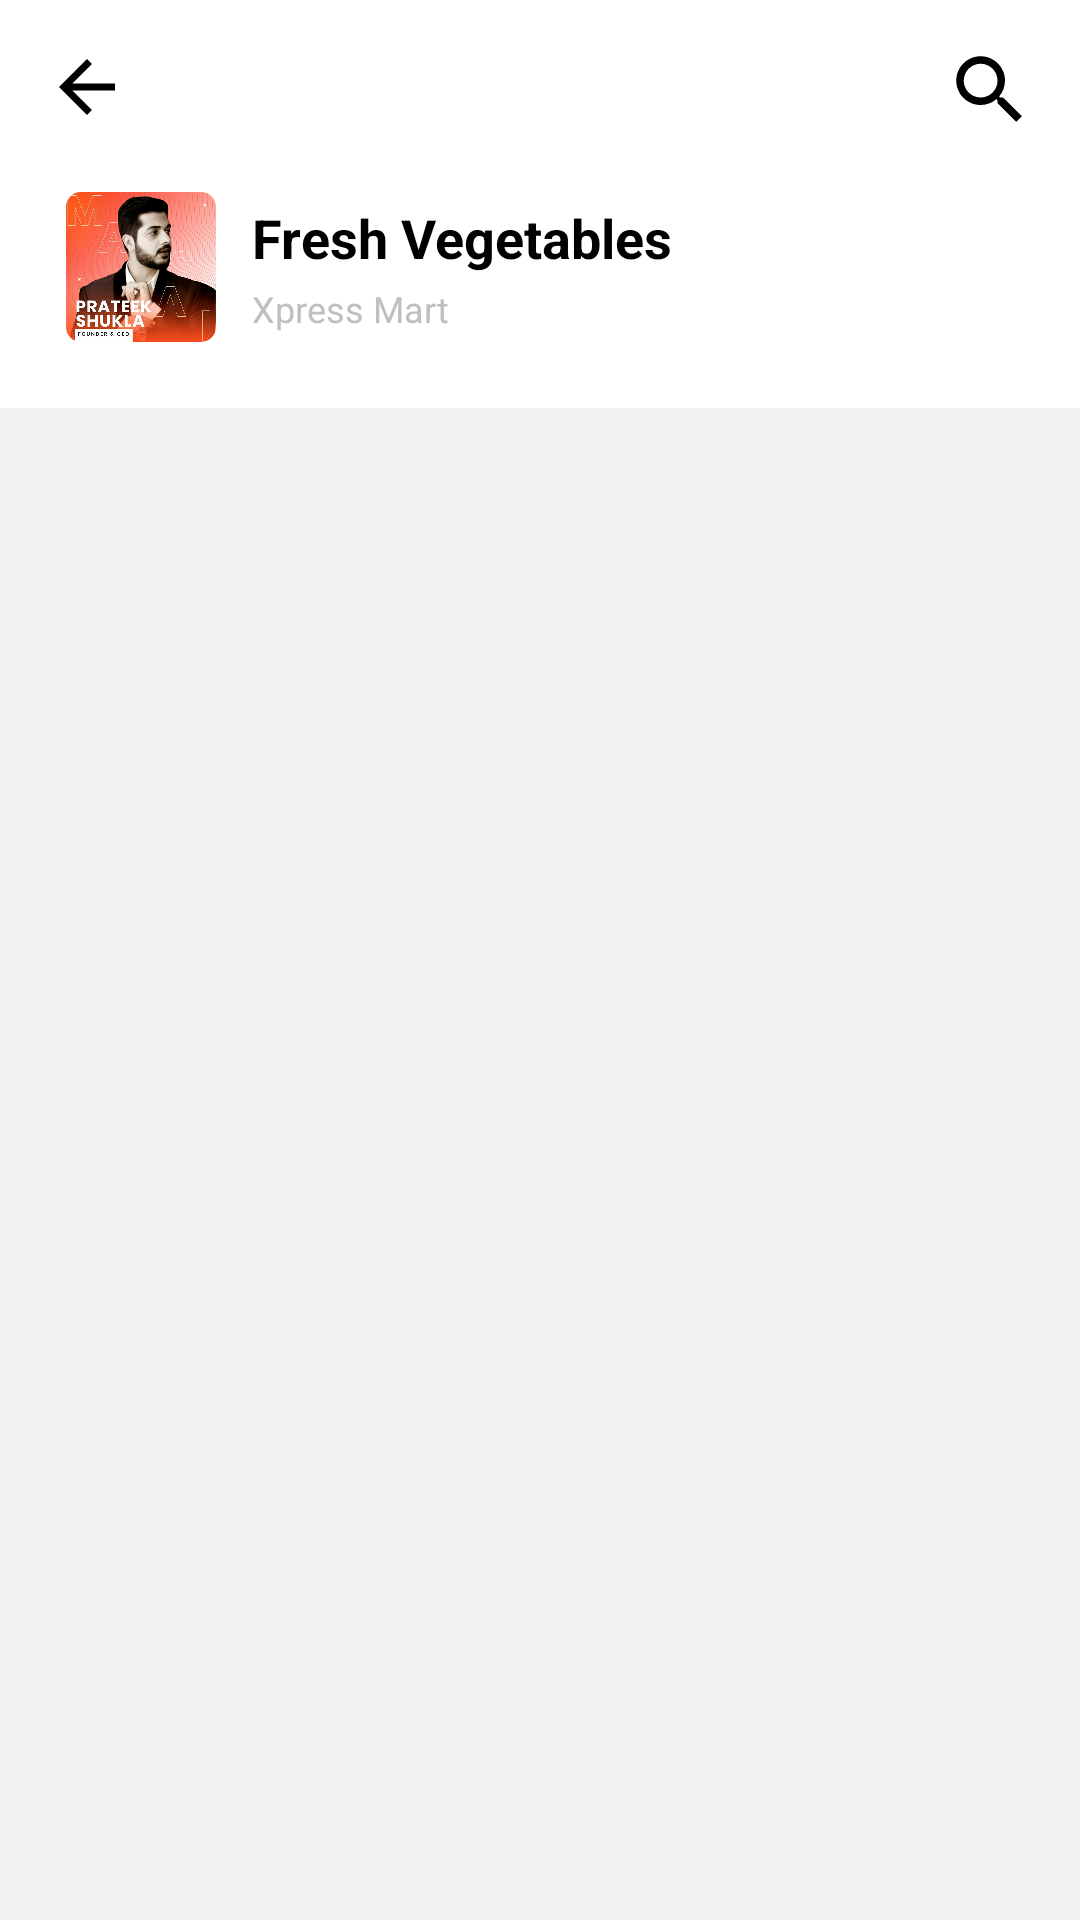

Where to tap for icons on this 1080 x 1920 app screen, as point (x, y):
arrow back: point (87, 87)
search: point (989, 89)
